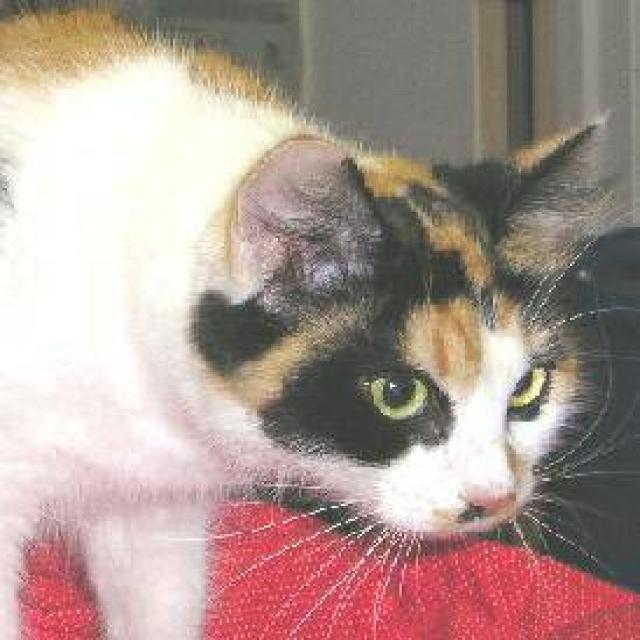cat: (0, 0, 638, 638)
